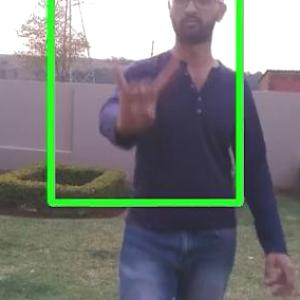takeoff-hand: (98, 40, 181, 132)
